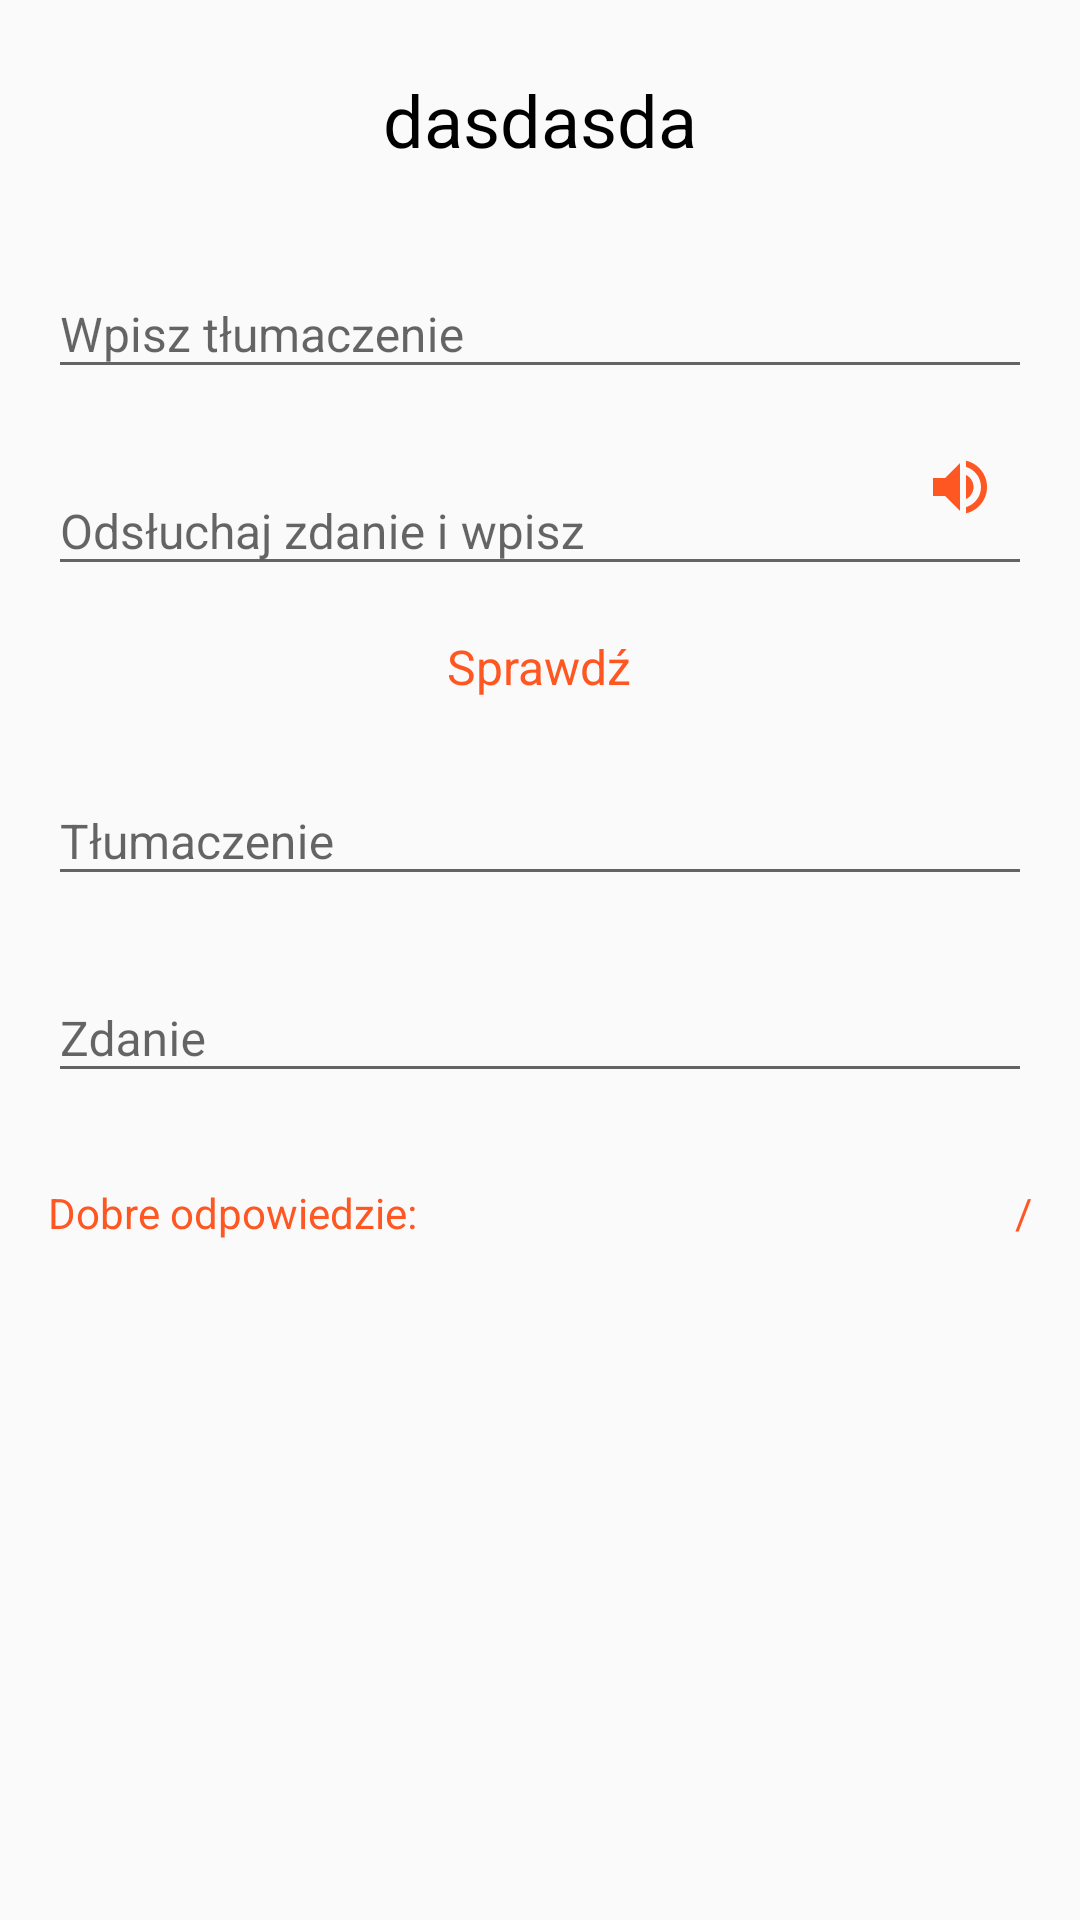

Icon bounding boxes for this 1080px×1920px phone screenshot, format (x1, y1, x2, y2):
volume up: (933, 460, 987, 514)
